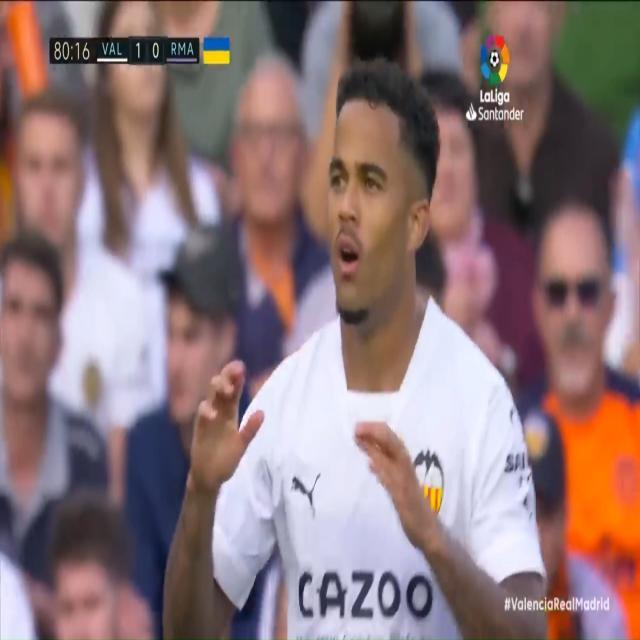player: (180, 60, 558, 640)
